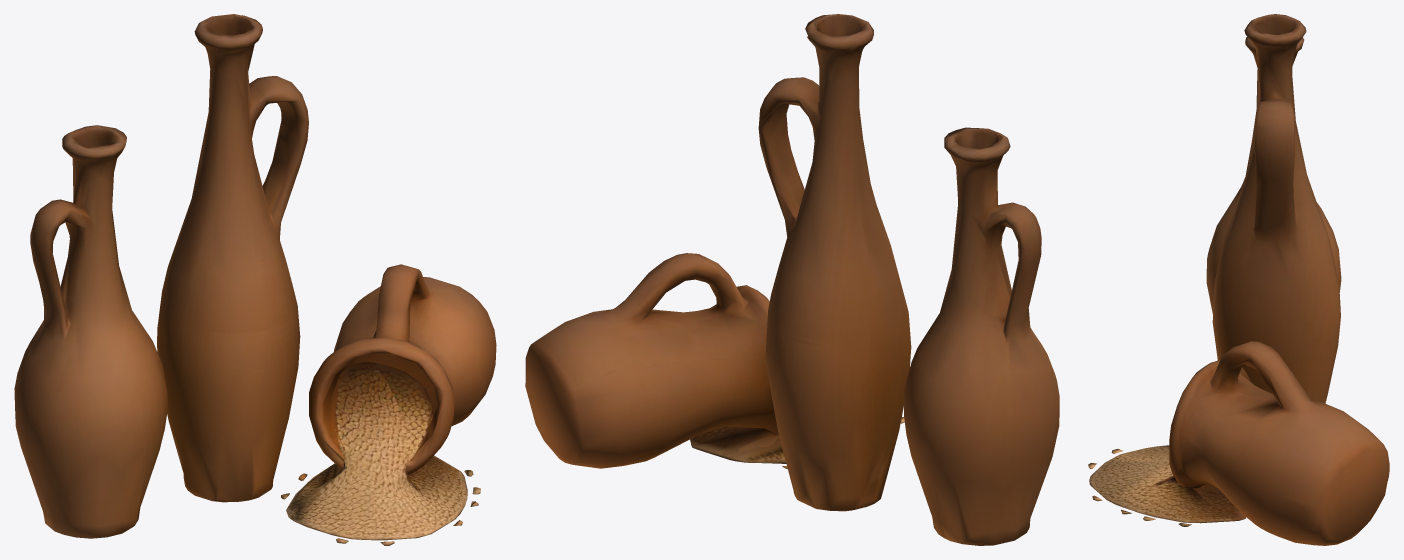
Rendered from grainjars.opt.glb.
The picture shows the model from 3 angles, left to right: view 1: azimuth 30°, elevation 25°; view 2: azimuth 150°, elevation 25°; view 3: azimuth 270°, elevation 25°; orthographic projection. The views are drawn at different scales.
Visible parts, largest first — view 1: node_0; view 2: node_0; view 3: node_0.
Part boxes in pixels (<box>): node_0: <box>14,14,496,545</box>; node_0: <box>525,14,1059,545</box>; node_0: <box>1088,14,1389,545</box>.
Bounding box in the file's own units: 0.9388 × 0.8438 × 0.5493.
1 material, 1 textured.
